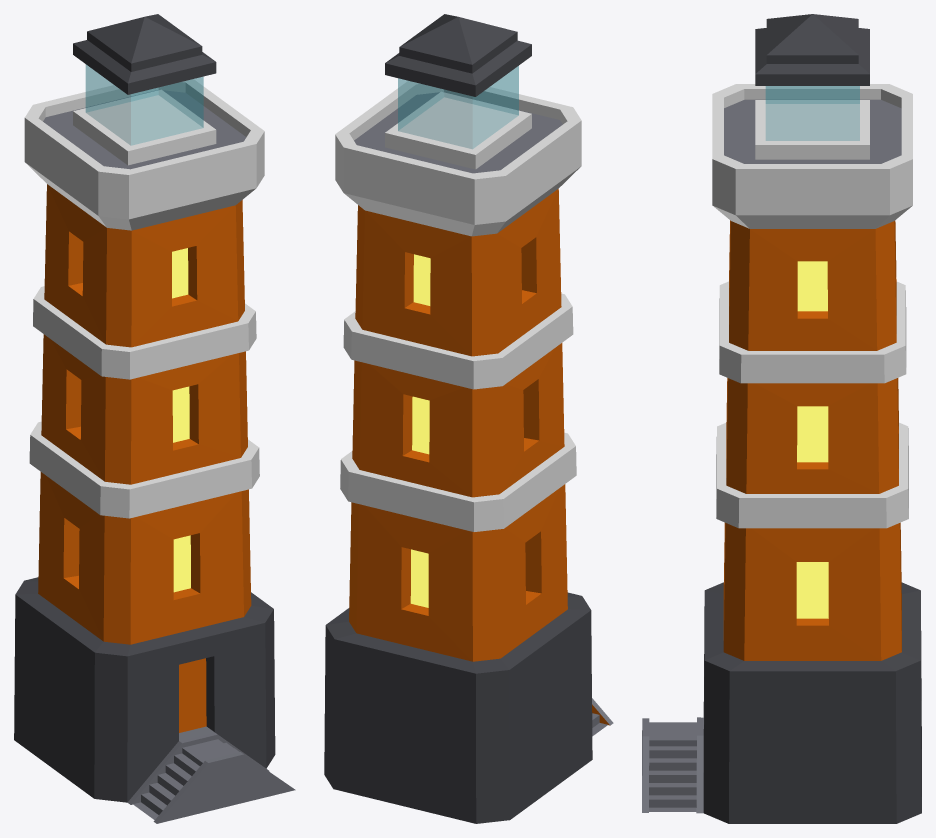
The model's file is square_lighthouse_fixed.fbx.
The picture shows the model from 3 angles, left to right: view 1: azimuth 30°, elevation 25°; view 2: azimuth 150°, elevation 25°; view 3: azimuth 270°, elevation 25°; orthographic projection. The views are drawn at different scales.
Visible parts, largest first — view 1: Cube.003; view 2: Cube.003; view 3: Cube.003.
Boxes of the visible parts, bbox=[...] form: Cube.003: bbox=[14, 14, 295, 823]; Cube.003: bbox=[324, 14, 613, 823]; Cube.003: bbox=[642, 14, 921, 823].
Bounding box in the file's own units: 225 × 870 × 289.
